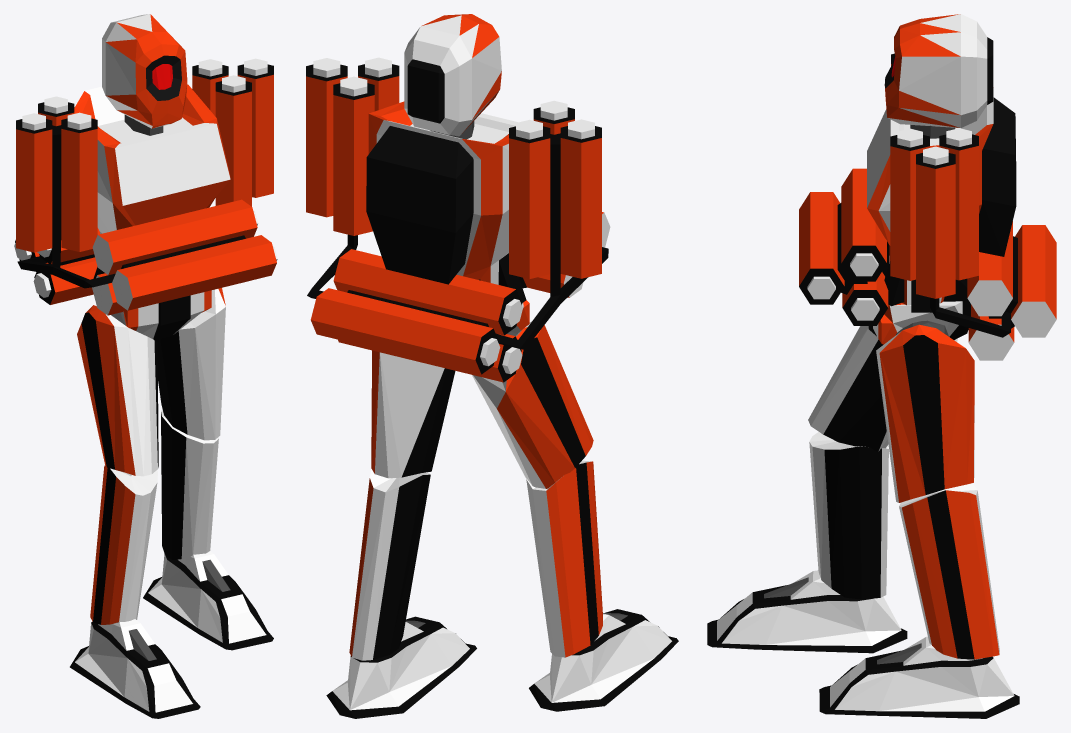
The model's file is robots_000005.obj.
The picture shows the model from 3 angles, left to right: view 1: azimuth 30°, elevation 25°; view 2: azimuth 150°, elevation 25°; view 3: azimuth 270°, elevation 25°; orthographic projection. The views are drawn at different scales.
Parts seen in each view (by area): view 1: Cylinder.004_Cylinder.006, Chest_plate_Cube.004, R_Thigh_Cube.005, Head_base.002_Cube.030, R_Shin_Cube.007, R_Thigh.002_Cube.027, R_Foot_Cube, R_Foot.002_Cube.035, R_Shin.002_Cube.029, Pelvis_Cube.006; view 2: Cylinder.004_Cylinder.006, Chest_plate_Cube.004, R_Shin_Cube.007, R_Shin.002_Cube.029, R_Thigh_Cube.005, Head_base.002_Cube.030, R_Thigh.002_Cube.027, R_Foot_Cube, R_Foot.002_Cube.035; view 3: Cylinder.004_Cylinder.006, R_Thigh.002_Cube.027, R_Shin.002_Cube.029, R_Shin_Cube.007, R_Foot.002_Cube.035, R_Foot_Cube, Head_base.002_Cube.030, Chest_plate_Cube.004, R_Thigh_Cube.005, Pelvis_Cube.006.
Part boxes in pixels (box(x1,y1,x2,y2)): Cylinder.004_Cylinder.006: box(14, 58, 277, 315); Chest_plate_Cube.004: box(74, 84, 230, 278); R_Thigh_Cube.005: box(77, 305, 158, 476); Head_base.002_Cube.030: box(102, 14, 187, 128); R_Shin_Cube.007: box(90, 465, 157, 624); R_Thigh.002_Cube.027: box(155, 288, 225, 440); R_Foot_Cube: box(70, 619, 200, 718); R_Foot.002_Cube.035: box(143, 551, 273, 650); R_Shin.002_Cube.029: box(161, 410, 218, 559); Pelvis_Cube.006: box(123, 290, 211, 339); Cylinder.004_Cylinder.006: box(306, 57, 610, 382); Chest_plate_Cube.004: box(366, 101, 526, 302); R_Shin_Cube.007: box(526, 460, 602, 657); R_Shin.002_Cube.029: box(349, 469, 430, 660); R_Thigh_Cube.005: box(472, 321, 593, 488); Head_base.002_Cube.030: box(404, 14, 501, 136); R_Thigh.002_Cube.027: box(371, 350, 455, 478); R_Foot_Cube: box(529, 609, 678, 711); R_Foot.002_Cube.035: box(326, 616, 476, 718); Cylinder.004_Cylinder.006: box(799, 54, 1056, 360); R_Thigh.002_Cube.027: box(876, 324, 974, 502); R_Shin.002_Cube.029: box(899, 483, 999, 659); R_Shin_Cube.007: box(809, 432, 888, 599); R_Foot.002_Cube.035: box(819, 636, 1019, 718); R_Foot_Cube: box(707, 570, 907, 653); Head_base.002_Cube.030: box(884, 14, 993, 127); Chest_plate_Cube.004: box(867, 87, 1016, 312); R_Thigh_Cube.005: box(808, 326, 957, 451); Pelvis_Cube.006: box(868, 278, 970, 344).
Bounding box in the file's own units: 1.38 × 3.03 × 1.48.
